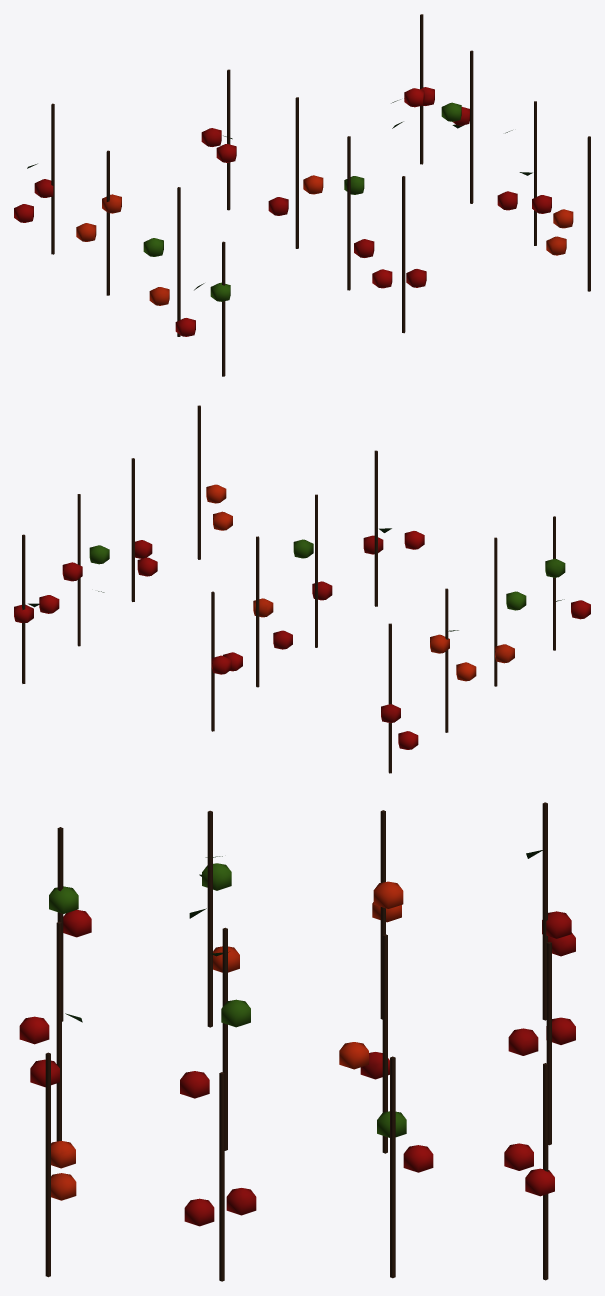
Rendered from fm_tomato_3_lod1.glb.
The picture shows the model from 3 angles, top to bottom: view 1: azimuth 30°, elevation 25°; view 2: azimuth 150°, elevation 25°; view 3: azimuth 270°, elevation 25°; orthographic projection. The views are drawn at different scales.
Parts seen in each view (by area): view 1: fm_tomato_3_lod1; view 2: fm_tomato_3_lod1; view 3: fm_tomato_3_lod1.
Part boxes in pixels (box(x1,y1,x2,y2)): fm_tomato_3_lod1: box(14, 14, 590, 376); fm_tomato_3_lod1: box(14, 405, 590, 773); fm_tomato_3_lod1: box(19, 802, 575, 1281).
Bounding box in the file's own units: 3.09 × 1.1 × 2.56.
